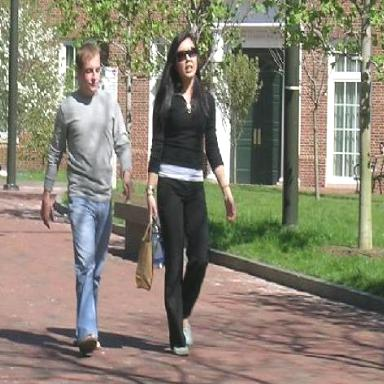ped: (42, 42, 133, 352), (150, 35, 237, 354)
